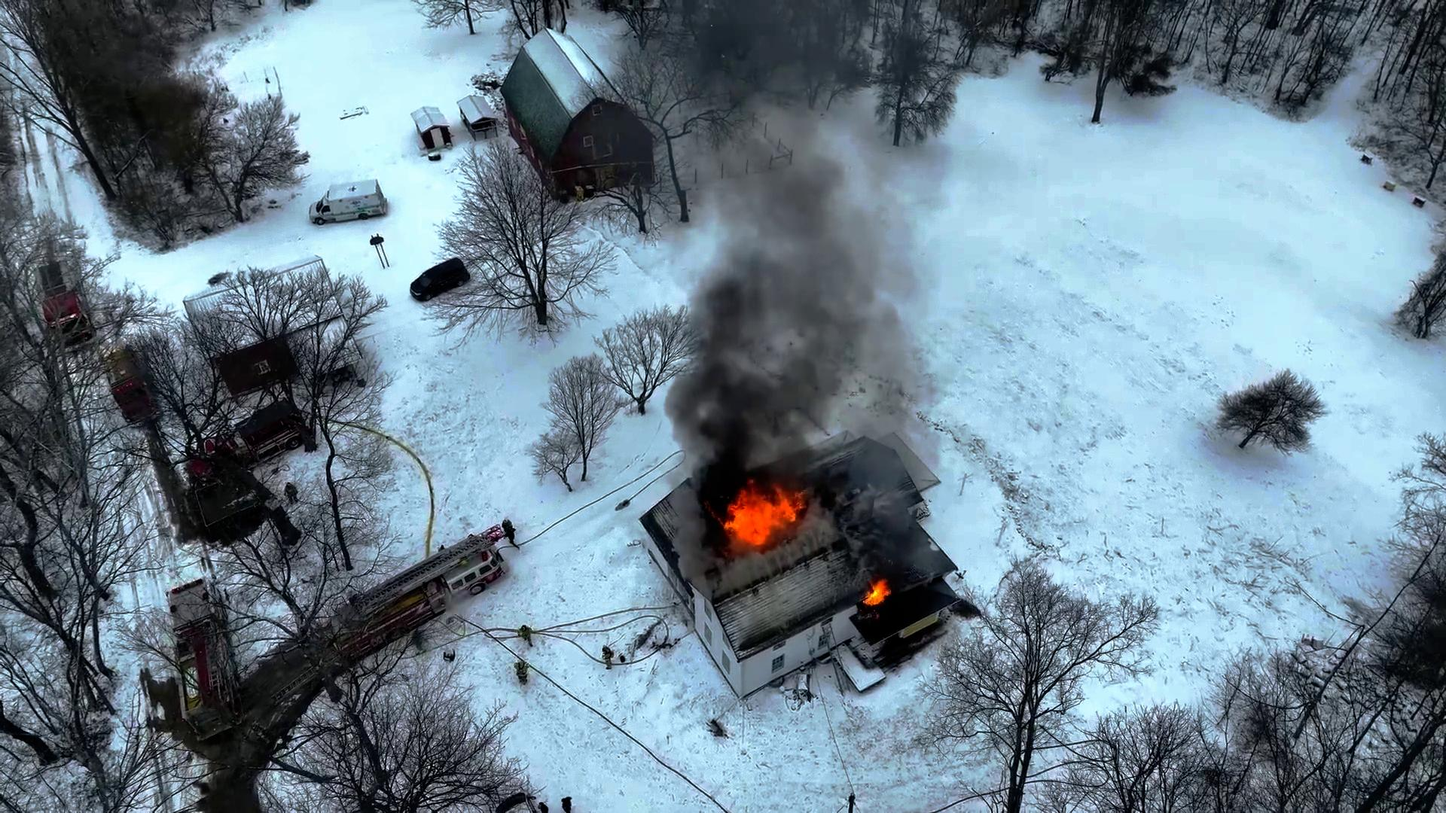fire: (733, 490, 802, 550), (870, 578, 907, 604)
smoke: (720, 300, 808, 434)
